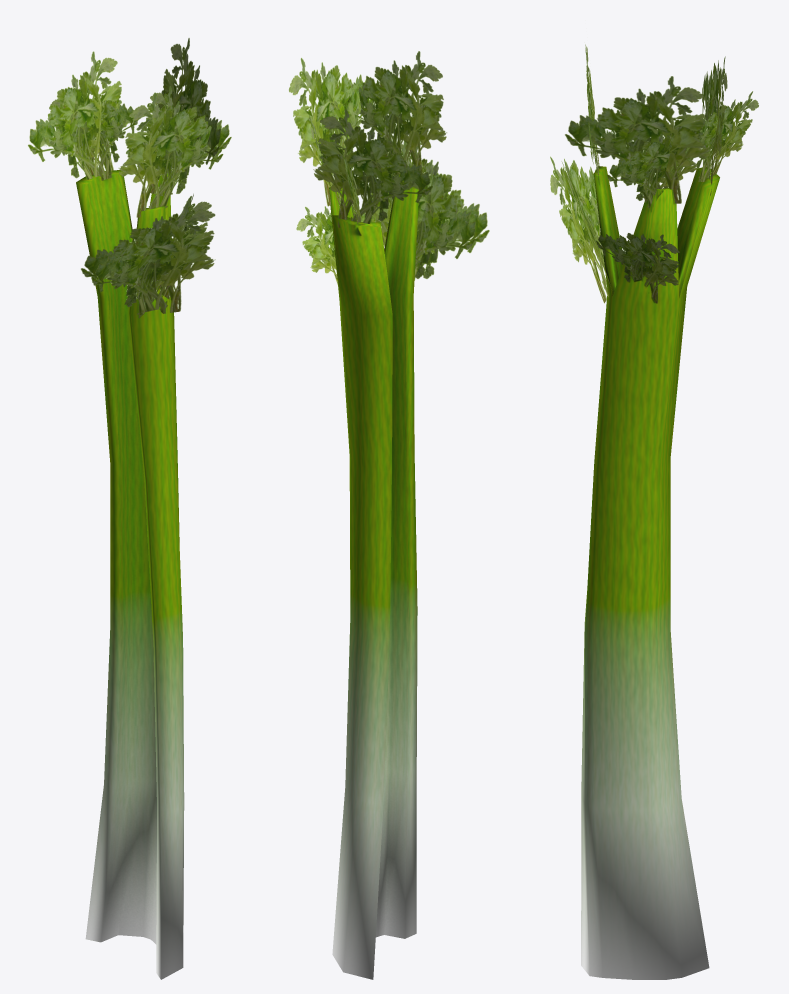
Rendered from celery.glb.
3 renders of one model, left to right at view 1: azimuth 30°, elevation 25°; view 2: azimuth 150°, elevation 25°; view 3: azimuth 270°, elevation 25°, orthographic. The views are drawn at different scales.
Visible parts, largest first — view 1: Celery_Stick; view 2: Celery_Stick; view 3: Celery_Stick.
Boxes of the visible parts, <box> form: Celery_Stick: <box>28,38,231,979</box>; Celery_Stick: <box>289,51,489,979</box>; Celery_Stick: <box>550,44,758,979</box>.
Size of the model in its own units: 414 by 2031 by 472.
1 material, 1 textured.
